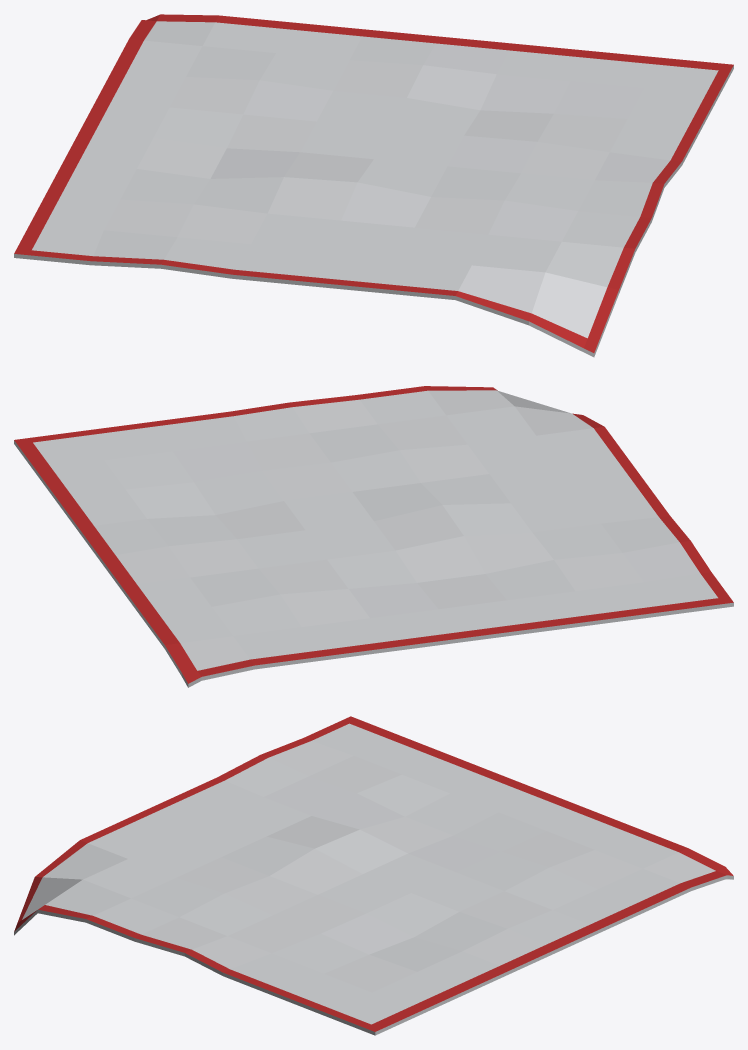
File: O_Clutter_TableCloth.fbx
3 renders of one model, top to bottom at view 1: azimuth 30°, elevation 25°; view 2: azimuth 150°, elevation 25°; view 3: azimuth 270°, elevation 25°, orthographic. The views are drawn at different scales.
Parts seen in each view (by area): view 1: pCube22; view 2: pCube22; view 3: pCube22.
Boxes of the visible parts, left/top/right/bottom form: pCube22: left=14, top=14, right=733, bottom=357; pCube22: left=14, top=386, right=733, bottom=687; pCube22: left=14, top=716, right=733, bottom=1035.
Size of the model in its own units: 3.87 by 0.3348 by 3.73.
